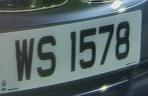1: (65, 28, 80, 75)
5: (76, 25, 99, 71)
7: (96, 21, 116, 68)
8: (114, 18, 133, 63)
S: (35, 32, 60, 82)
W: (10, 32, 38, 88)
